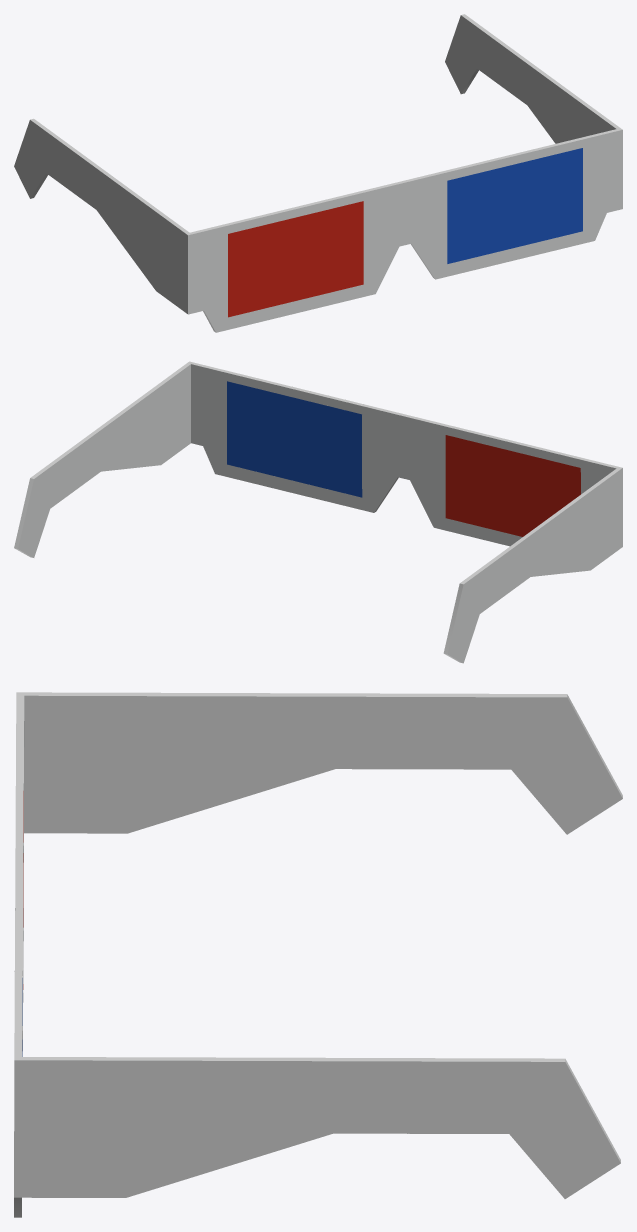
Rendered from stereo-glasses.glb.
The picture shows the model from 3 angles, top to bottom: view 1: azimuth 30°, elevation 25°; view 2: azimuth 150°, elevation 25°; view 3: azimuth 270°, elevation 25°; orthographic projection. The views are drawn at different scales.
Parts seen in each view (by area): view 1: Object_4, Object_3, Object_2; view 2: Object_4, Object_2, Object_3; view 3: Object_4.
Boxes of the visible parts, x1,y1,x2,y2 form: Object_4: (14, 14, 622, 332); Object_3: (228, 201, 363, 317); Object_2: (447, 148, 582, 263); Object_4: (14, 361, 622, 663); Object_2: (227, 381, 362, 497); Object_3: (445, 435, 580, 536); Object_4: (14, 692, 622, 1217).
Size of the model in its own units: 5.81 by 1.33 by 4.06.
